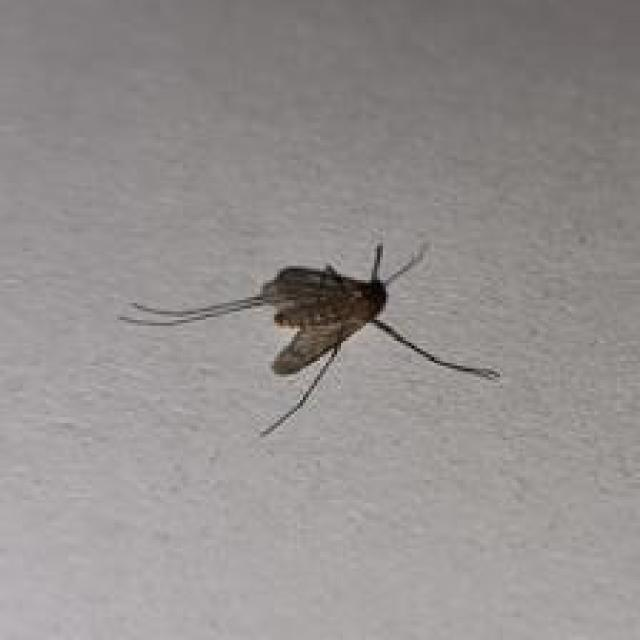Culex: (117, 238, 503, 438)
